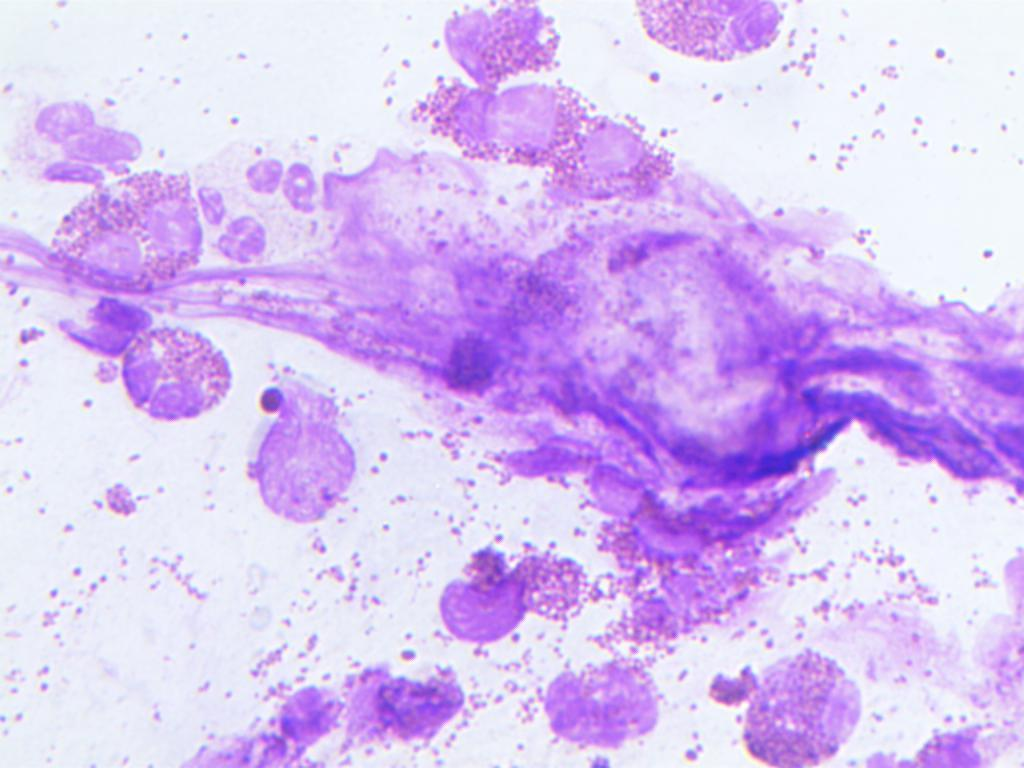artifact: (783, 384, 1022, 499), (640, 367, 853, 487), (787, 303, 1024, 403), (186, 661, 342, 768)
eosinophil: (602, 512, 771, 648), (721, 634, 884, 767), (433, 526, 596, 651), (46, 164, 197, 292), (523, 655, 687, 766), (329, 658, 478, 762), (439, 236, 586, 339), (614, 0, 802, 77), (410, 84, 589, 160), (119, 321, 240, 426), (429, 0, 576, 84), (558, 116, 701, 198)
epithelial: (234, 370, 356, 546)
neutrophil: (188, 134, 337, 272), (23, 79, 147, 192)
